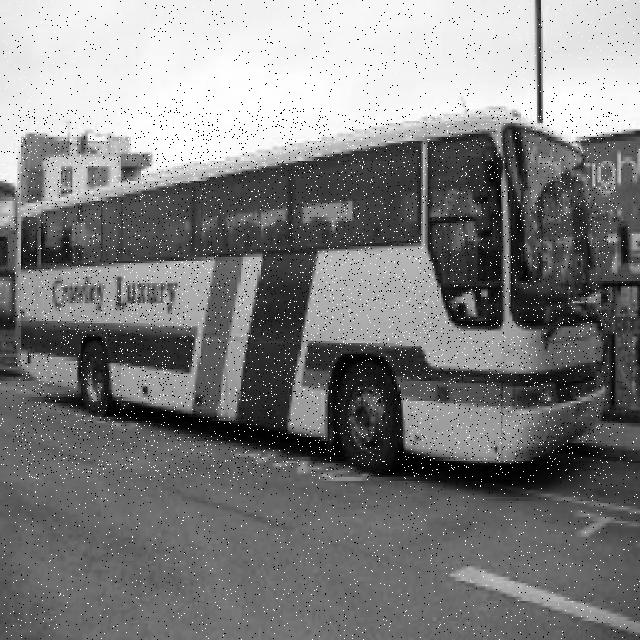Bus: (13, 108, 615, 478)
